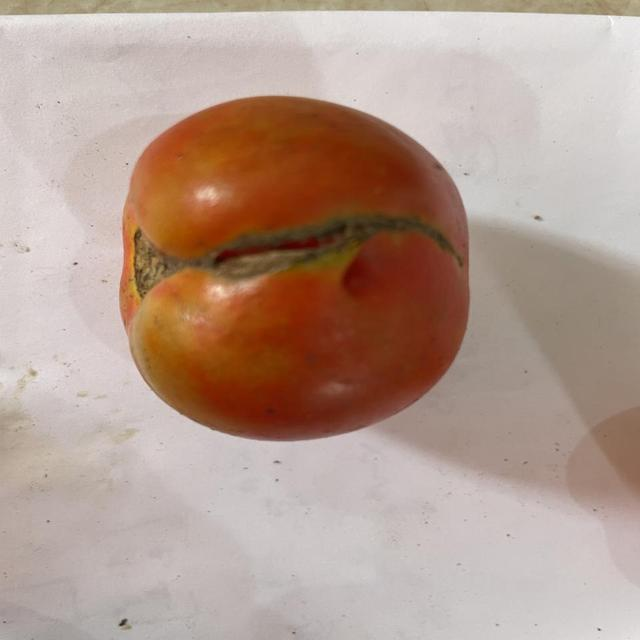Cracking Fruit: (69, 100, 306, 266)
